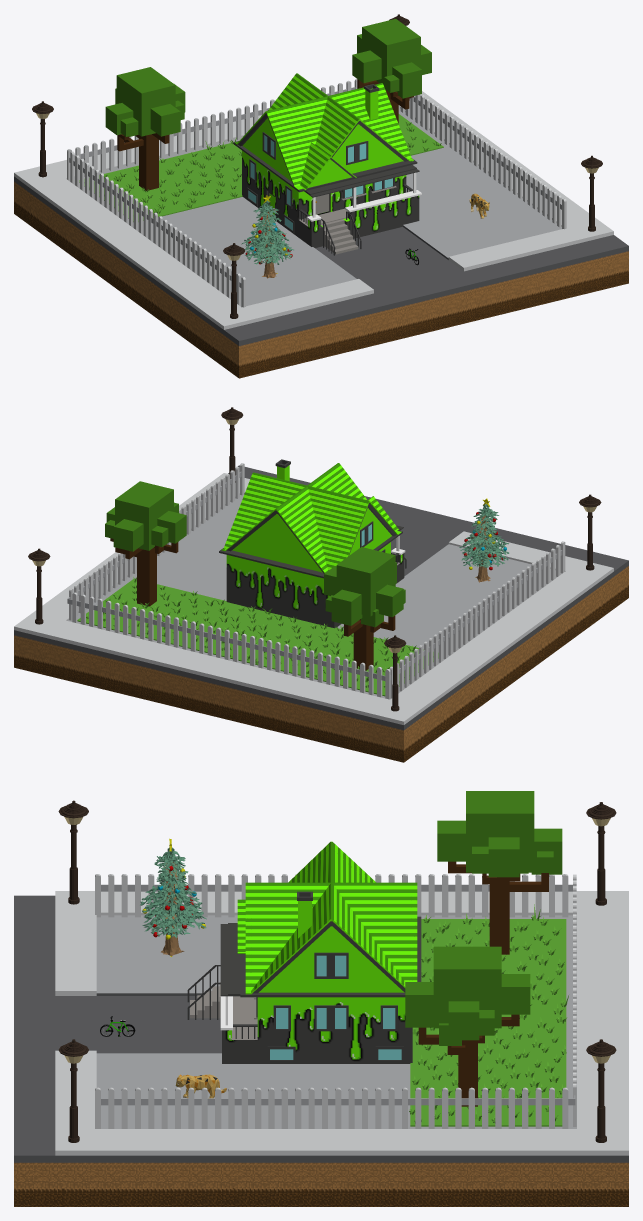
3 views of the same model, one above another, from view 1: azimuth 30°, elevation 25°; view 2: azimuth 150°, elevation 25°; view 3: azimuth 270°, elevation 25° (orthographic). The views are drawn at different scales.
Visible parts, largest first — view 1: Cube.004, Cube.754, OBJRANDOM_CHRISTMAS_TREE; view 2: Cube.004, Cube.754, OBJRANDOM_CHRISTMAS_TREE; view 3: Cube.004, Cube.754, OBJRANDOM_CHRISTMAS_TREE, ANIMAL_JAGUAR.
Boxes of the visible parts, x1,y1,x2,y2 form: Cube.004: [14, 14, 628, 378]; Cube.754: [233, 73, 421, 255]; OBJRANDOM_CHRISTMAS_TREE: [241, 195, 293, 278]; Cube.004: [14, 407, 628, 762]; Cube.754: [219, 459, 406, 628]; OBJRANDOM_CHRISTMAS_TREE: [459, 498, 509, 582]; Cube.004: [14, 791, 628, 1206]; Cube.754: [187, 841, 421, 1063]; OBJRANDOM_CHRISTMAS_TREE: [140, 838, 206, 956]; ANIMAL_JAGUAR: [175, 1074, 226, 1098].
Bounding box in the file's own units: 4000 × 1577 × 4000.
Materials: 37 (4 with a texture image).
